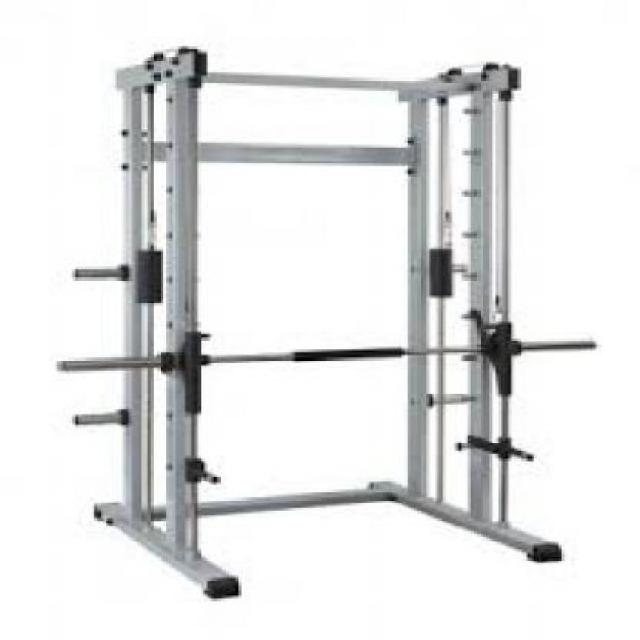smith machine: (55, 43, 597, 602)
